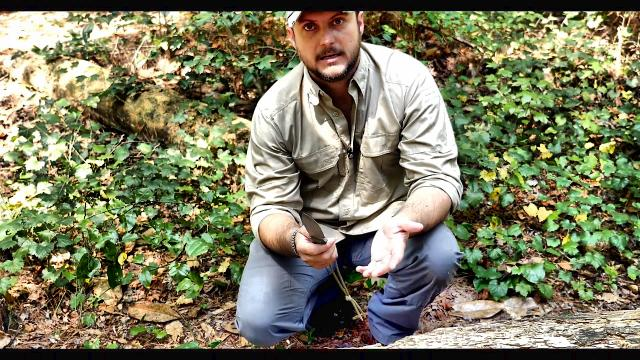knife: (298, 208, 338, 270)
